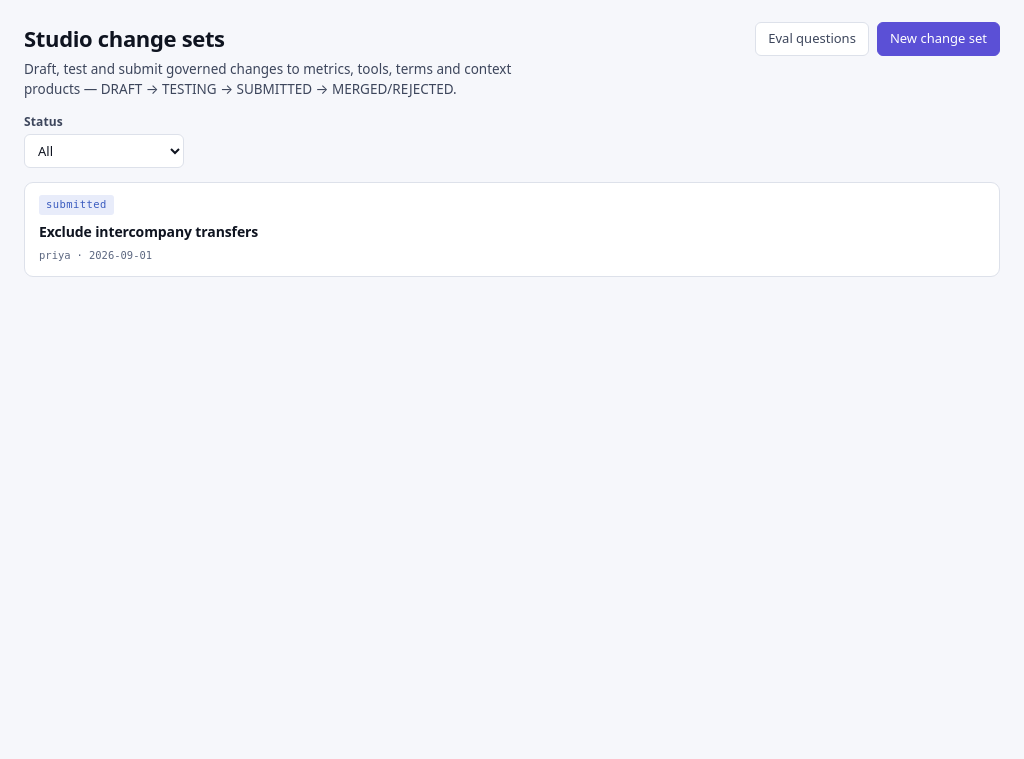
Test: Studio controls by role › makes a SUBMITTED change set read-only even for a write role
What coordinates should you click on to do the following:
click the button "submitted Exclude intercompany transfers priya · 2026-09-01"
I would click on:
 (76, 205)
Its box is [25,183,999,276].
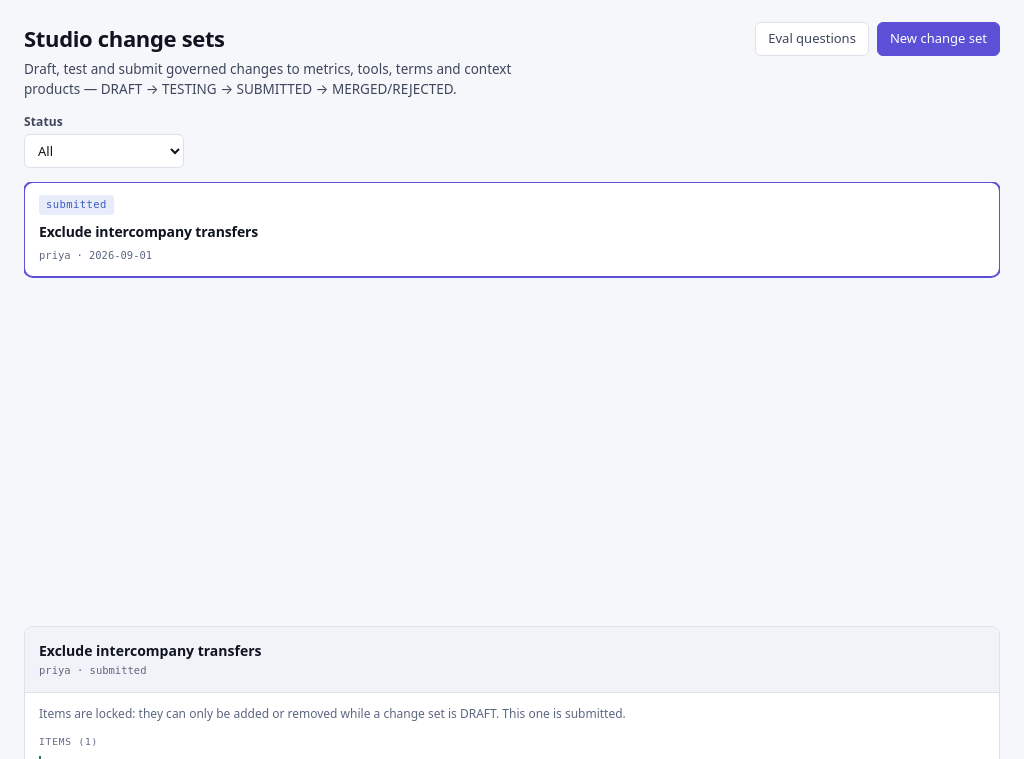
Expected: the text "Items (1)" is shown, [39,736,98,747]
Expected: the text "Items are locked" is shown, [39,705,460,722]
